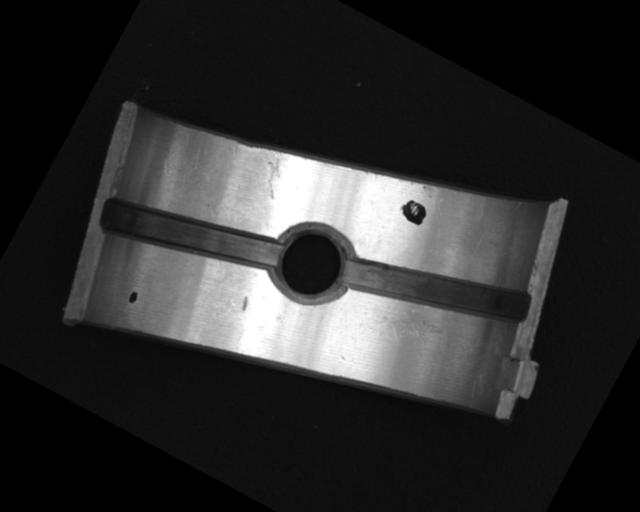blot: (394, 196, 430, 228), (124, 288, 141, 306)
bruise: (237, 294, 252, 312)
gap: (338, 214, 533, 368), (95, 164, 283, 308)
hole: (258, 211, 365, 316)
nick: (252, 149, 295, 201)
scratch: (372, 294, 453, 363)
